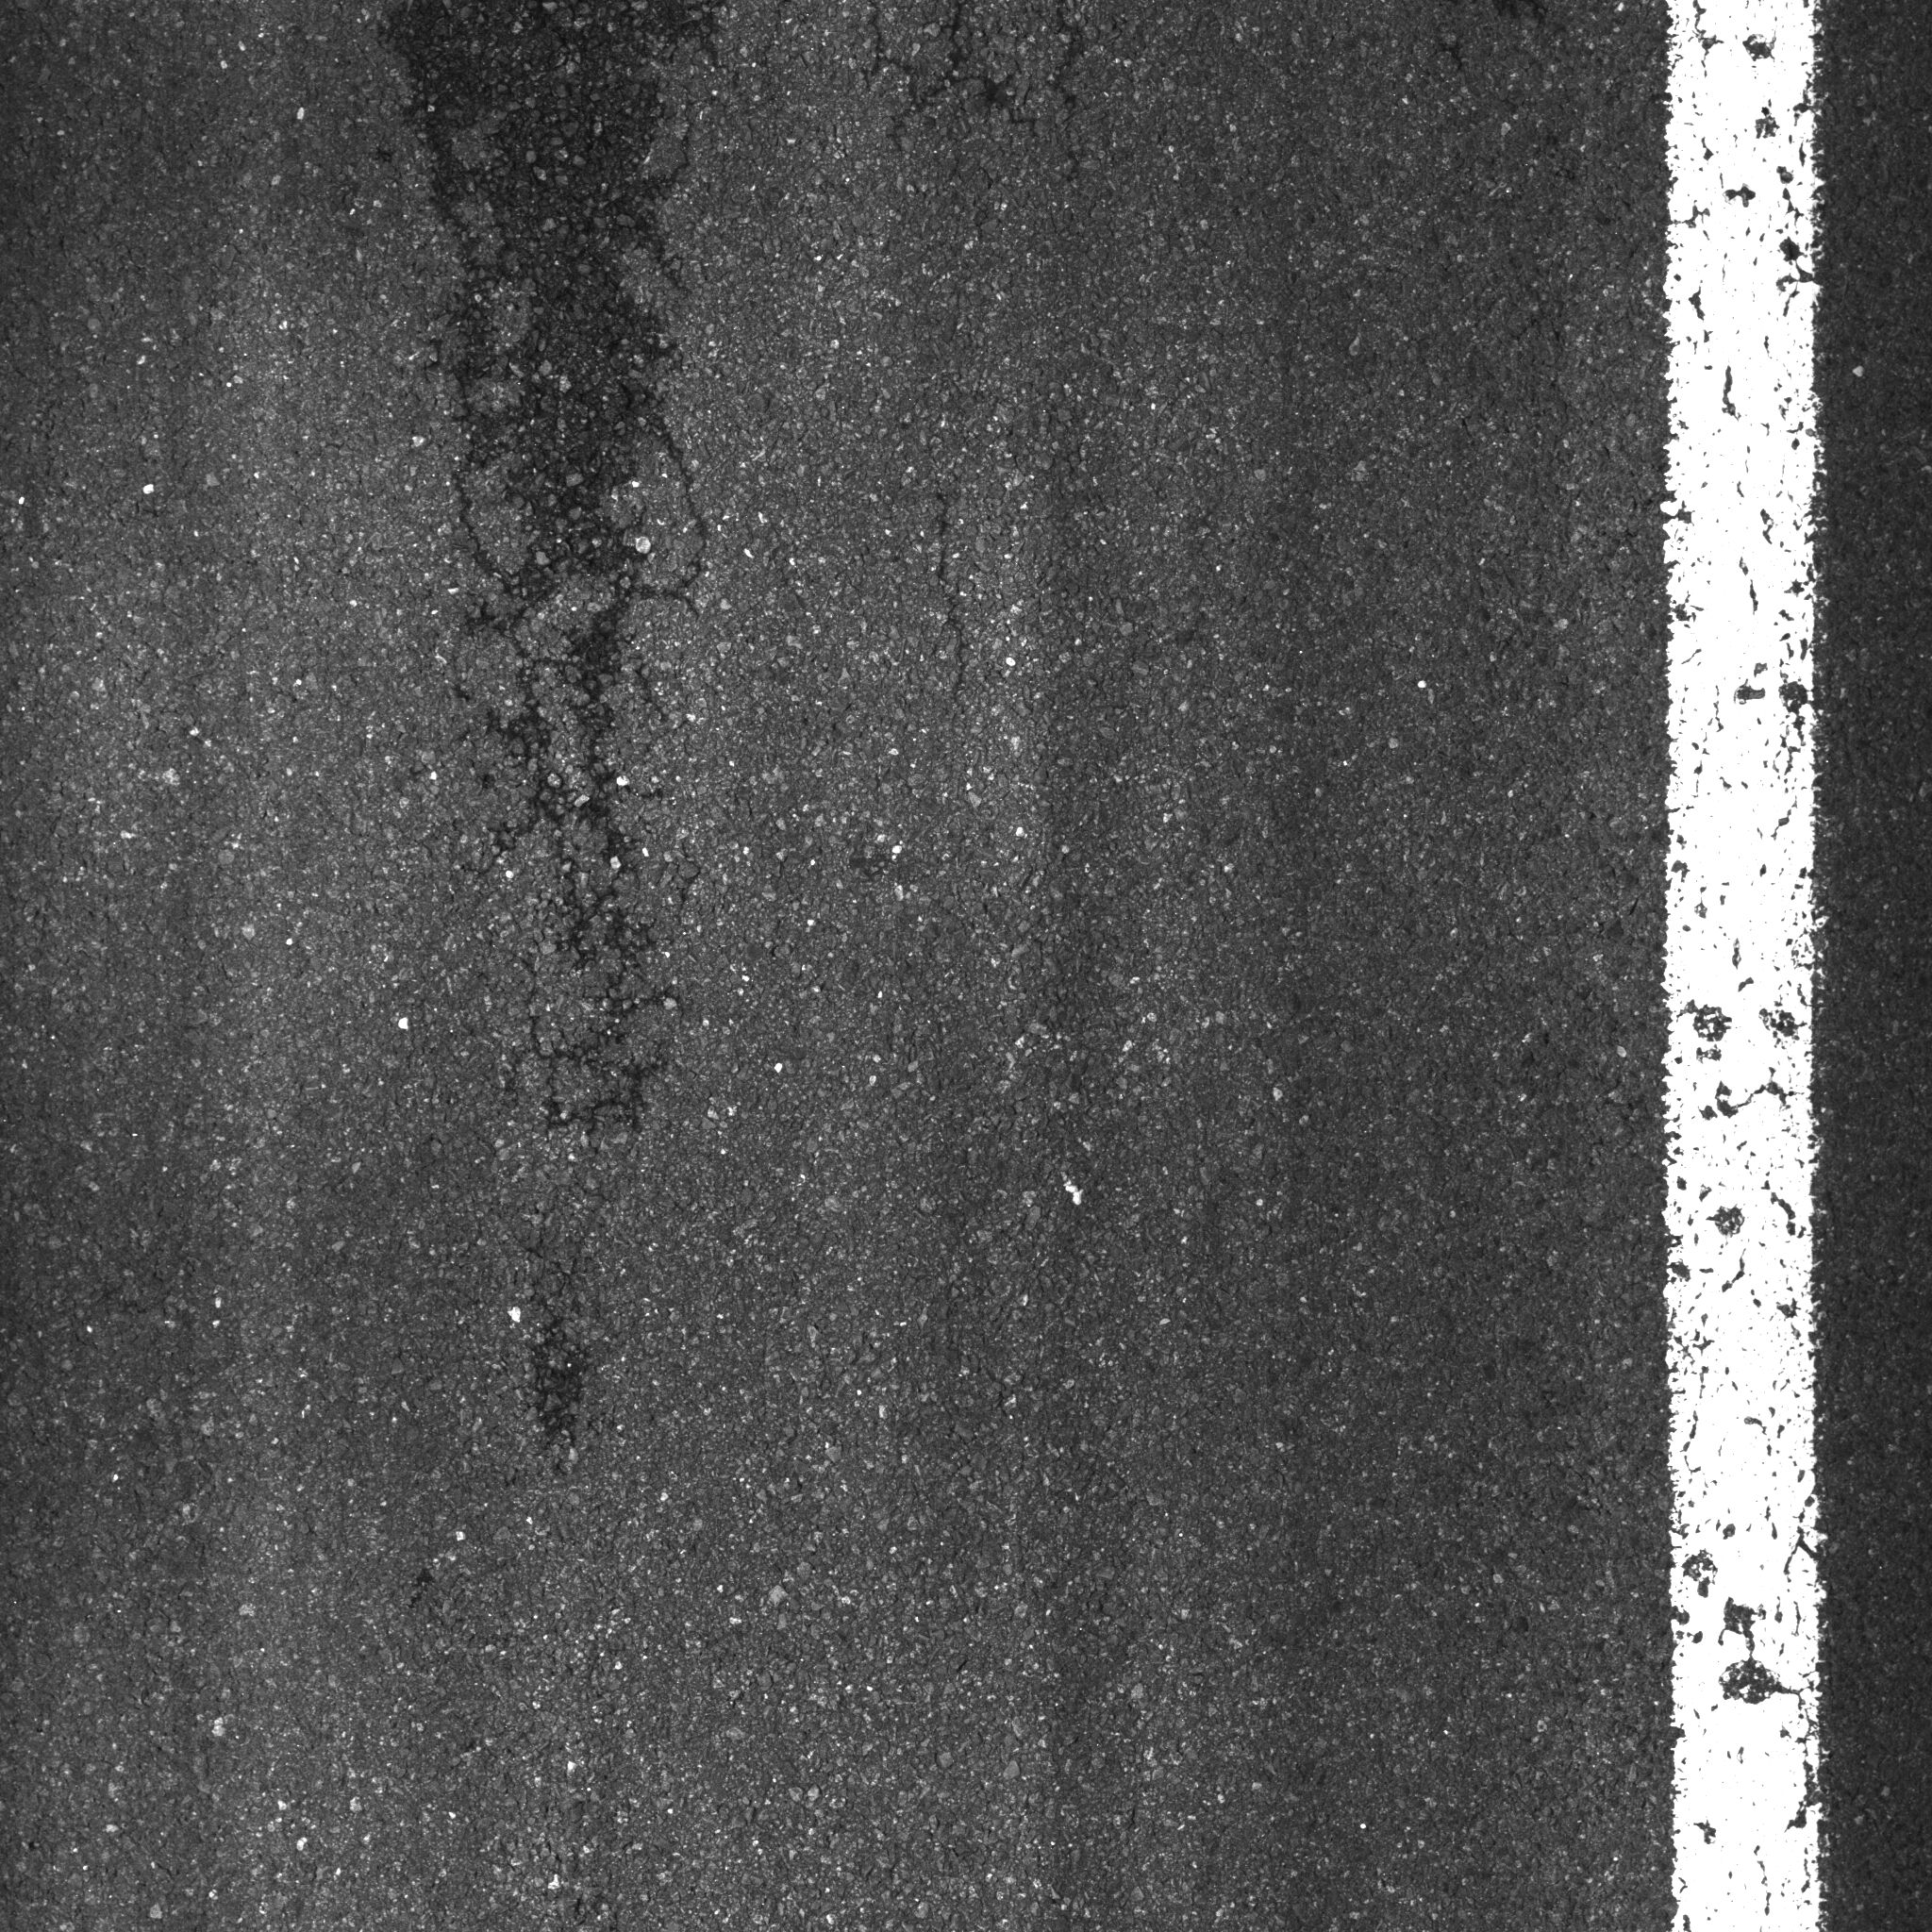alligator: (287, 2, 798, 1458)
